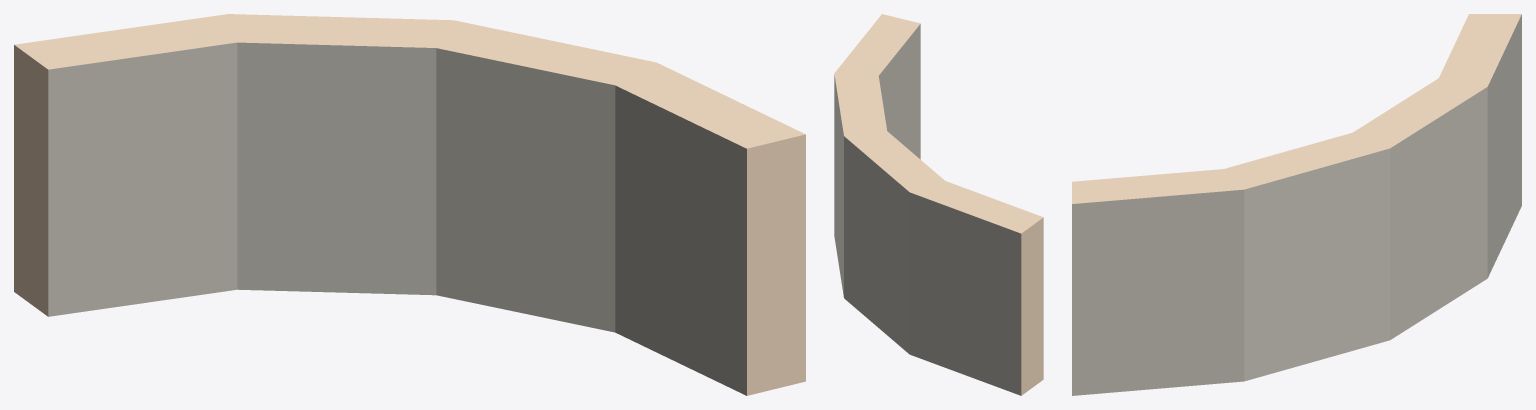
File: Tiered_Retaining_Wall_Flat_Curve_2x2_Mid.glb
3 views of the same model, side by side, from view 1: azimuth 30°, elevation 25°; view 2: azimuth 150°, elevation 25°; view 3: azimuth 270°, elevation 25° (orthographic). The views are drawn at different scales.
Parts seen in each view (by area): view 1: Tiered_Retaining_Wall_Flat_Curve_2x2_Mid; view 2: Tiered_Retaining_Wall_Flat_Curve_2x2_Mid; view 3: Tiered_Retaining_Wall_Flat_Curve_2x2_Mid.
Boxes of the visible parts, <box> form: Tiered_Retaining_Wall_Flat_Curve_2x2_Mid: <box>14,14,805,395</box>; Tiered_Retaining_Wall_Flat_Curve_2x2_Mid: <box>834,14,1043,395</box>; Tiered_Retaining_Wall_Flat_Curve_2x2_Mid: <box>1072,14,1521,395</box>.
Size of the model in its own units: 212 by 100 by 213.
